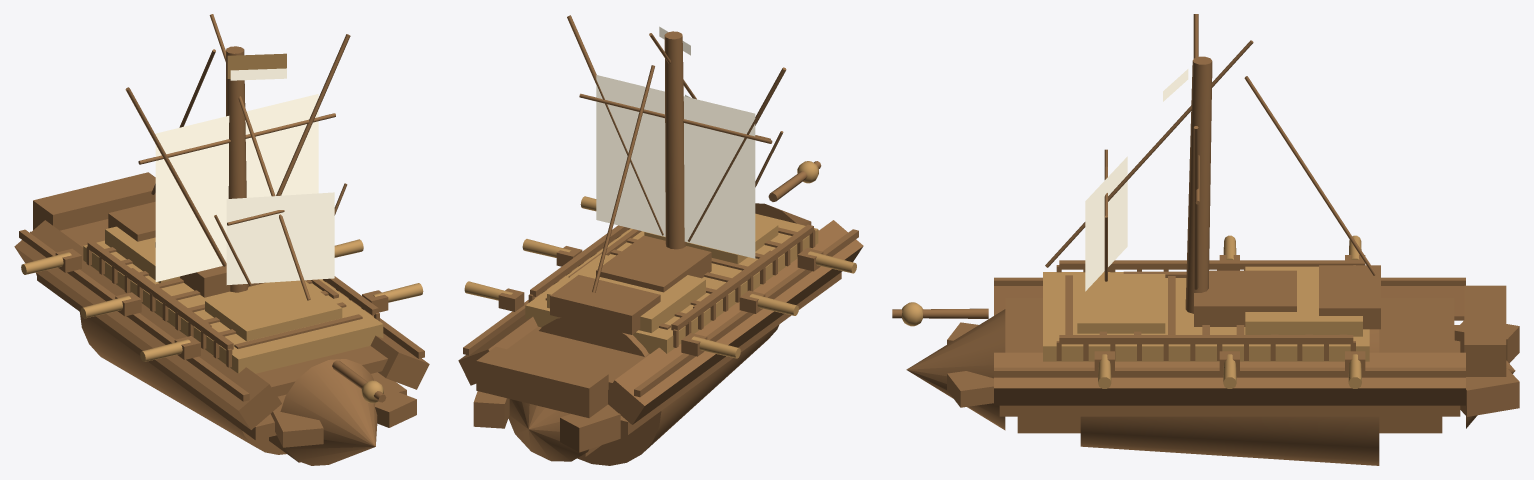
The model's file is player_v2.glb.
The picture shows the model from 3 angles, left to right: view 1: azimuth 30°, elevation 25°; view 2: azimuth 150°, elevation 25°; view 3: azimuth 270°, elevation 25°; orthographic projection. The views are drawn at different scales.
Parts seen in each view (by area): view 1: ship-sail-main, ship-sail-fore, ship-hull-side-left, ship-deck, ship-bow, ship-forecastle, ship-stern-transom, ship-hull, ship-hull-upper, ship-mast, ship-hull-mid, ship-gunwale-left (+21 smaller); view 2: ship-sail-main, ship-hull-side-left, ship-stern-transom, ship-hull, ship-deck, ship-stern-gallery, ship-mast, ship-cabin, ship-hull-upper, ship-stern, ship-quarterdeck, ship-gunwale-left (+20 smaller); view 3: ship-hull-side-right, ship-hull, ship-deck, ship-hull-upper, ship-hull-mid, ship-forecastle, ship-cabin, ship-gunwale-right, ship-mast, ship-bow, ship-stern-transom, ship-quarterdeck (+14 smaller).
Part boxes in pixels (x1=…): ship-sail-main: x1=155, y1=94, x2=318, y2=281; ship-sail-fore: x1=226, y1=192, x2=334, y2=284; ship-hull-side-left: x1=14, y1=220, x2=281, y2=429; ship-deck: x1=83, y1=240, x2=383, y2=373; ship-bow: x1=280, y1=359, x2=377, y2=465; ship-forecastle: x1=205, y1=280, x2=342, y2=341; ship-stern-transom: x1=33, y1=172, x2=155, y2=230; ship-hull: x1=80, y1=312, x2=286, y2=454; ship-hull-upper: x1=60, y1=219, x2=387, y2=396; ship-mast: x1=226, y1=46, x2=248, y2=292; ship-hull-mid: x1=37, y1=273, x2=406, y2=440; ship-gunwale-left: x1=19, y1=229, x2=249, y2=401; ship-sail-main: x1=596, y1=75, x2=755, y2=258; ship-hull-side-left: x1=608, y1=220, x2=863, y2=424; ship-stern-transom: x1=476, y1=346, x2=608, y2=417; ship-hull: x1=539, y1=317, x2=779, y2=465; ship-deck: x1=525, y1=213, x2=818, y2=353; ship-stern-gallery: x1=550, y1=275, x2=660, y2=334; ship-mast: x1=664, y1=31, x2=686, y2=249; ship-cabin: x1=596, y1=235, x2=711, y2=292; ship-hull-upper: x1=507, y1=230, x2=818, y2=388; ship-stern: x1=508, y1=399, x2=588, y2=461; ship-quarterdeck: x1=547, y1=254, x2=705, y2=332; ship-gunwale-left: x1=634, y1=229, x2=858, y2=397; ship-hull-side-right: x1=994, y1=352, x2=1465, y2=405; ship-hull: x1=1080, y1=329, x2=1379, y2=465; ship-deck: x1=1043, y1=272, x2=1369, y2=361; ship-hull-upper: x1=1005, y1=298, x2=1454, y2=352; ship-hull-mid: x1=999, y1=325, x2=1460, y2=416; ship-forecastle: x1=1077, y1=274, x2=1165, y2=333; ship-cabin: x1=1194, y1=270, x2=1296, y2=326; ship-gunwale-right: x1=994, y1=367, x2=1465, y2=377; ship-mast: x1=1185, y1=56, x2=1212, y2=313; ship-bow: x1=906, y1=309, x2=1005, y2=430; ship-stern-transom: x1=1464, y1=285, x2=1506, y2=376; ship-quarterdeck: x1=1245, y1=266, x2=1362, y2=336.
Bounding box in the file's own units: 3.98 × 5.45 × 7.41.
